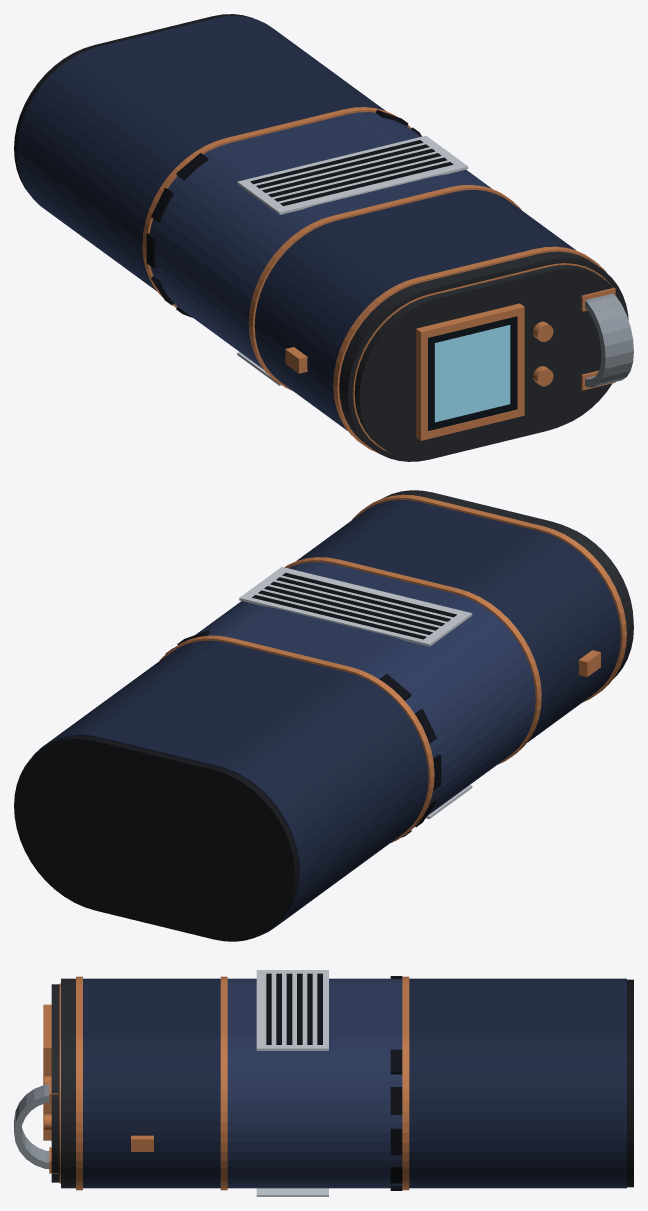
File: thermox_duo.obj
3 renders of one model, top to bottom at view 1: azimuth 30°, elevation 25°; view 2: azimuth 150°, elevation 25°; view 3: azimuth 270°, elevation 25°, orthographic. The views are drawn at different scales.
Parts seen in each view (by area): view 1: body_lower, body_upper, body_mid, lid_cap, oled_screen, lid, grille_rear, oled_1_5in, trim_band_3, trim_band_2, trim_band_1, oled_bezel_b (+11 smaller); view 2: body_lower, base_pad, body_upper, body_mid, grille_rear, lid, trim_band_3, trim_band_1, trim_band_2, exhaust_slot_rear_3, exhaust_slot_rear_4, exhaust_slot_rear_5 (+3 smaller); view 3: body_lower, body_mid, body_upper, grille_rear, lid, lid_cap, trim_band_1, trim_band_2, trim_band_3, base_pad, grille_front, exhaust_slot_rear_4 (+12 smaller).
Boxes of the visible parts, box(x1,y1,x2,y2) form: body_lower: box(17, 15, 385, 290); body_upper: box(254, 190, 575, 430); body_mid: box(150, 112, 491, 369); lid_cap: box(354, 265, 626, 459); oled_screen: box(434, 325, 510, 422); lid: box(339, 251, 628, 461); grille_rear: box(237, 135, 468, 214); oled_1_5in: box(428, 316, 517, 431); trim_band_3: box(333, 246, 606, 453); trim_band_2: box(248, 185, 521, 390); trim_band_1: box(142, 107, 411, 307); oled_bezel_b: box(416, 303, 524, 339); body_lower: box(31, 640, 428, 936); base_pad: box(14, 736, 298, 941); body_upper: box(297, 499, 620, 742); body_mid: box(195, 562, 535, 815); grille_rear: box(239, 567, 472, 646); lid: box(383, 490, 633, 678); trim_band_3: box(351, 494, 626, 702); trim_band_1: box(159, 635, 434, 842); trim_band_2: box(284, 557, 541, 764); exhaust_slot_rear_3: box(264, 586, 438, 630); exhaust_slot_rear_4: box(270, 581, 444, 626); exhaust_slot_rear_5: box(276, 577, 450, 621); body_lower: box(409, 978, 626, 1188); body_mid: box(227, 978, 402, 1188); body_upper: box(83, 978, 220, 1188); grille_rear: box(256, 970, 328, 1050); lid: box(61, 978, 75, 1188); lid_cap: box(51, 984, 59, 1182); trim_band_1: box(402, 976, 409, 1190); trim_band_2: box(220, 976, 227, 1190); trim_band_3: box(76, 976, 82, 1190); base_pad: box(627, 979, 633, 1187); grille_front: box(256, 1188, 328, 1196); exhaust_slot_rear_4: box(286, 973, 292, 1044).
Size of the model in its own units: 126 by 70.7 by 266.
